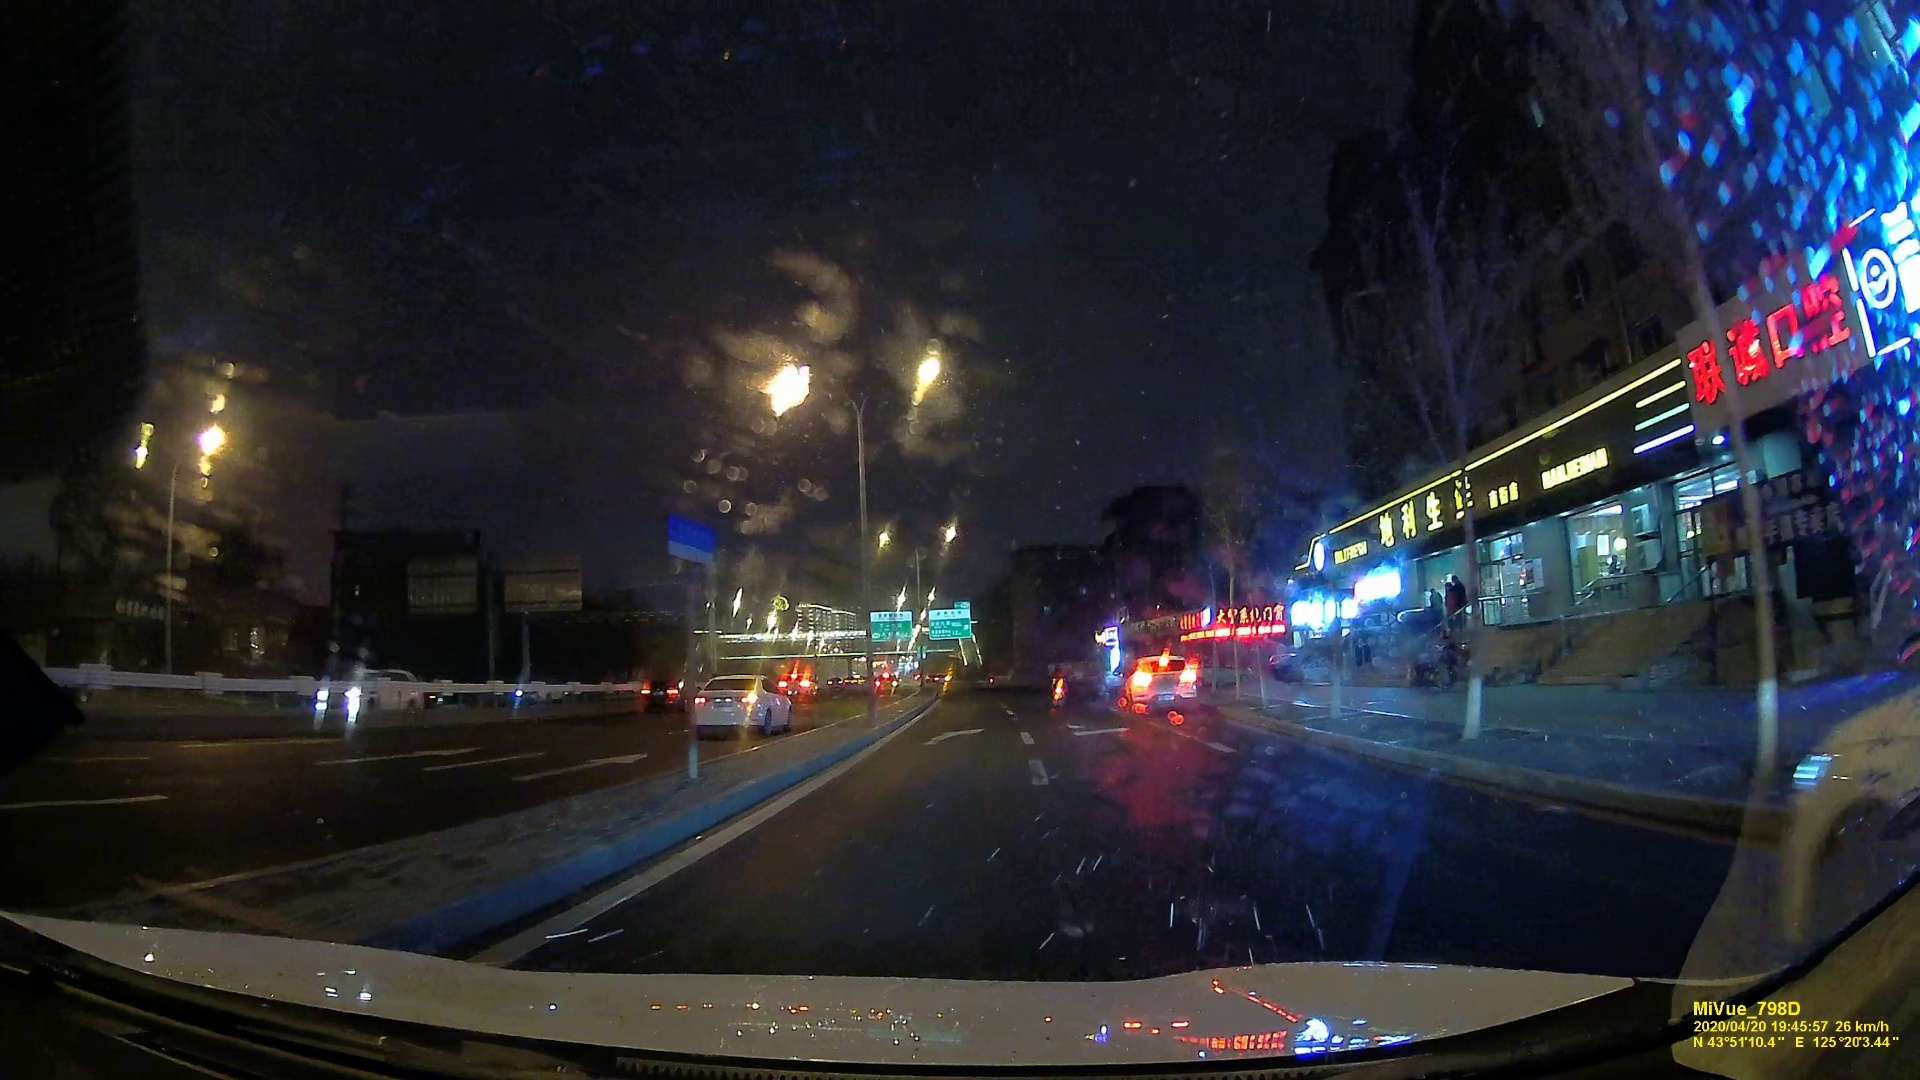person: (1450, 575, 1467, 626), (1426, 587, 1441, 622), (1440, 581, 1453, 620), (1606, 552, 1620, 585)
traffic_sign: (1686, 336, 1727, 407), (870, 614, 911, 641), (927, 610, 969, 635)
vehicle: (315, 666, 427, 723), (693, 674, 790, 729), (1125, 656, 1198, 709), (640, 675, 688, 709), (874, 671, 899, 695)
